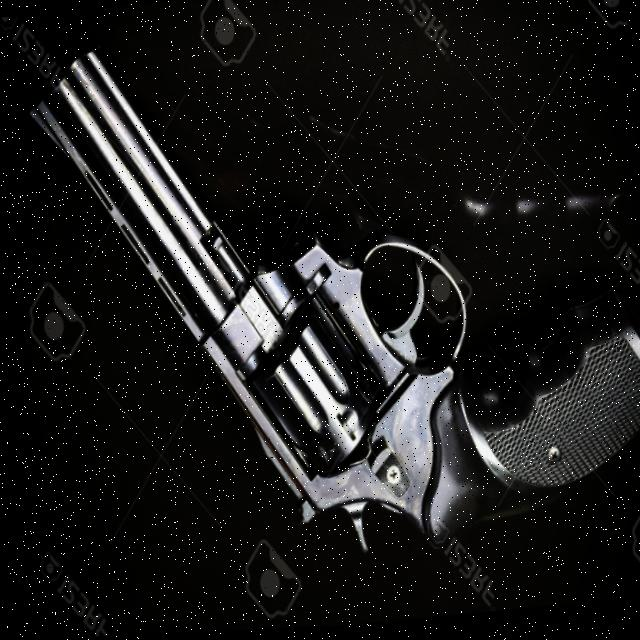pistol: (19, 0, 640, 595)
